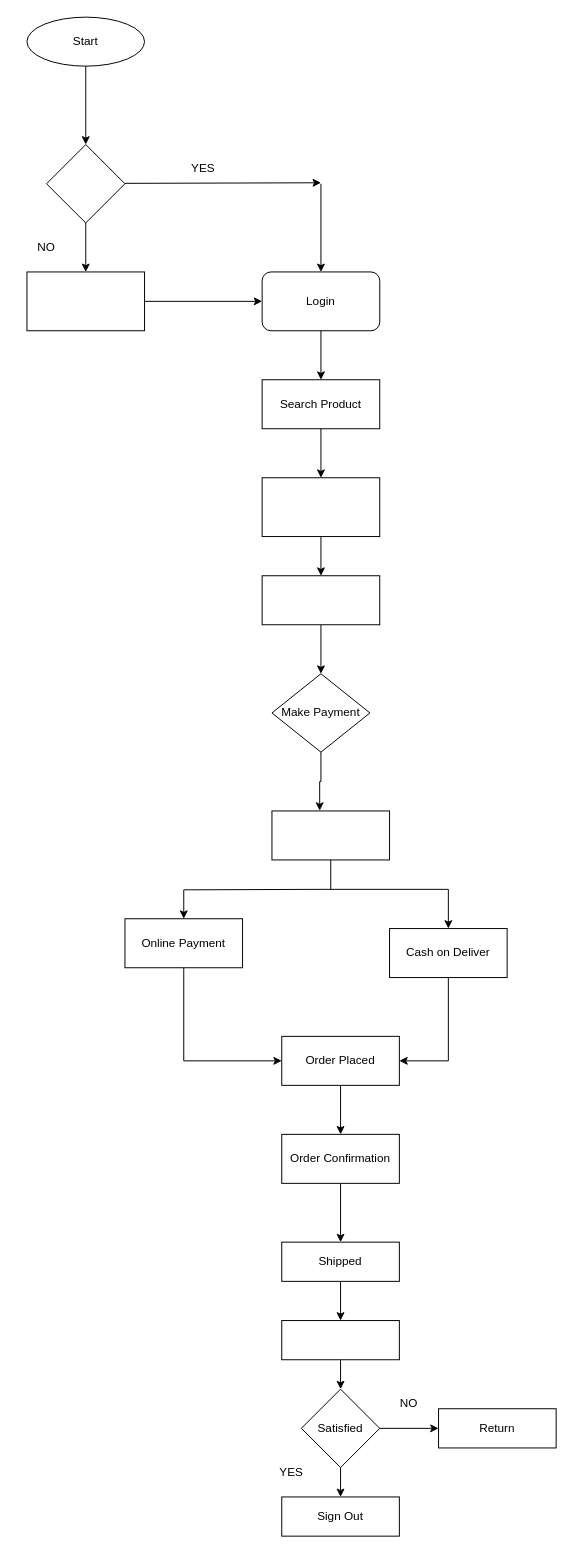
This 573x1553 diagram has some shape labels left out. The box of each missing label's shape, as (x1, y1, x2, y2) in pixels:
Add to Cart: (261, 575, 380, 625)
Delivered: (281, 1320, 399, 1360)
has account?: (46, 144, 125, 223)
Payment type: (271, 810, 390, 860)
Register: (26, 271, 145, 331)
View Product: (261, 477, 380, 537)
